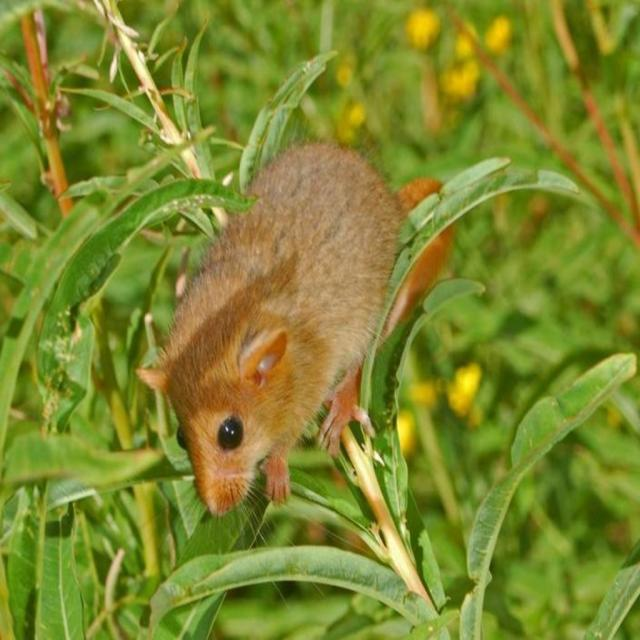rat: (132, 136, 456, 518)
